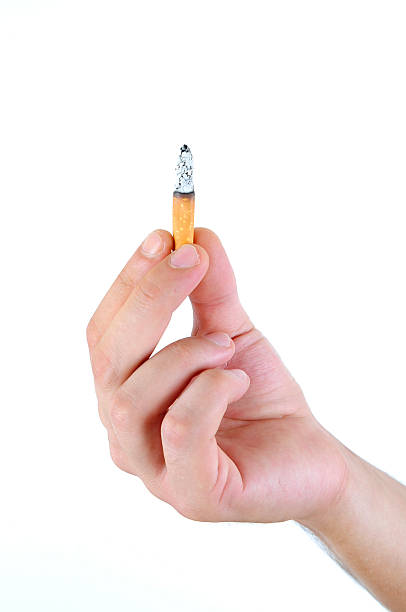cigarette: (172, 133, 197, 247)
